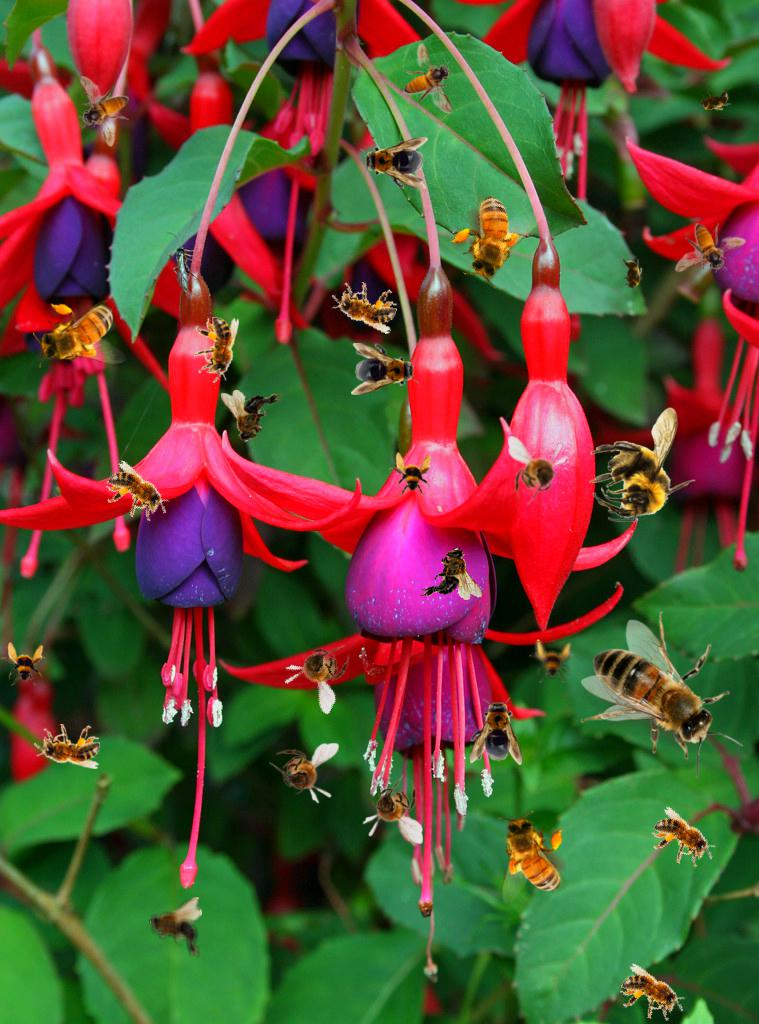Bee: (581, 611, 743, 778), (437, 178, 547, 295), (589, 407, 696, 522), (274, 624, 363, 716), (33, 300, 126, 368), (498, 811, 566, 904), (98, 458, 178, 531), (644, 805, 724, 876), (613, 962, 693, 1024), (326, 276, 402, 335), (362, 774, 423, 844), (269, 743, 339, 804), (508, 436, 569, 506), (403, 43, 453, 114), (79, 76, 129, 147), (675, 223, 746, 273), (470, 697, 522, 765), (360, 137, 428, 189), (351, 343, 419, 395), (420, 547, 482, 600), (221, 390, 283, 443), (149, 897, 202, 959), (194, 317, 239, 383), (34, 724, 100, 769), (529, 639, 573, 683), (1, 642, 45, 686), (389, 452, 433, 496), (692, 86, 736, 116), (621, 255, 643, 295)
